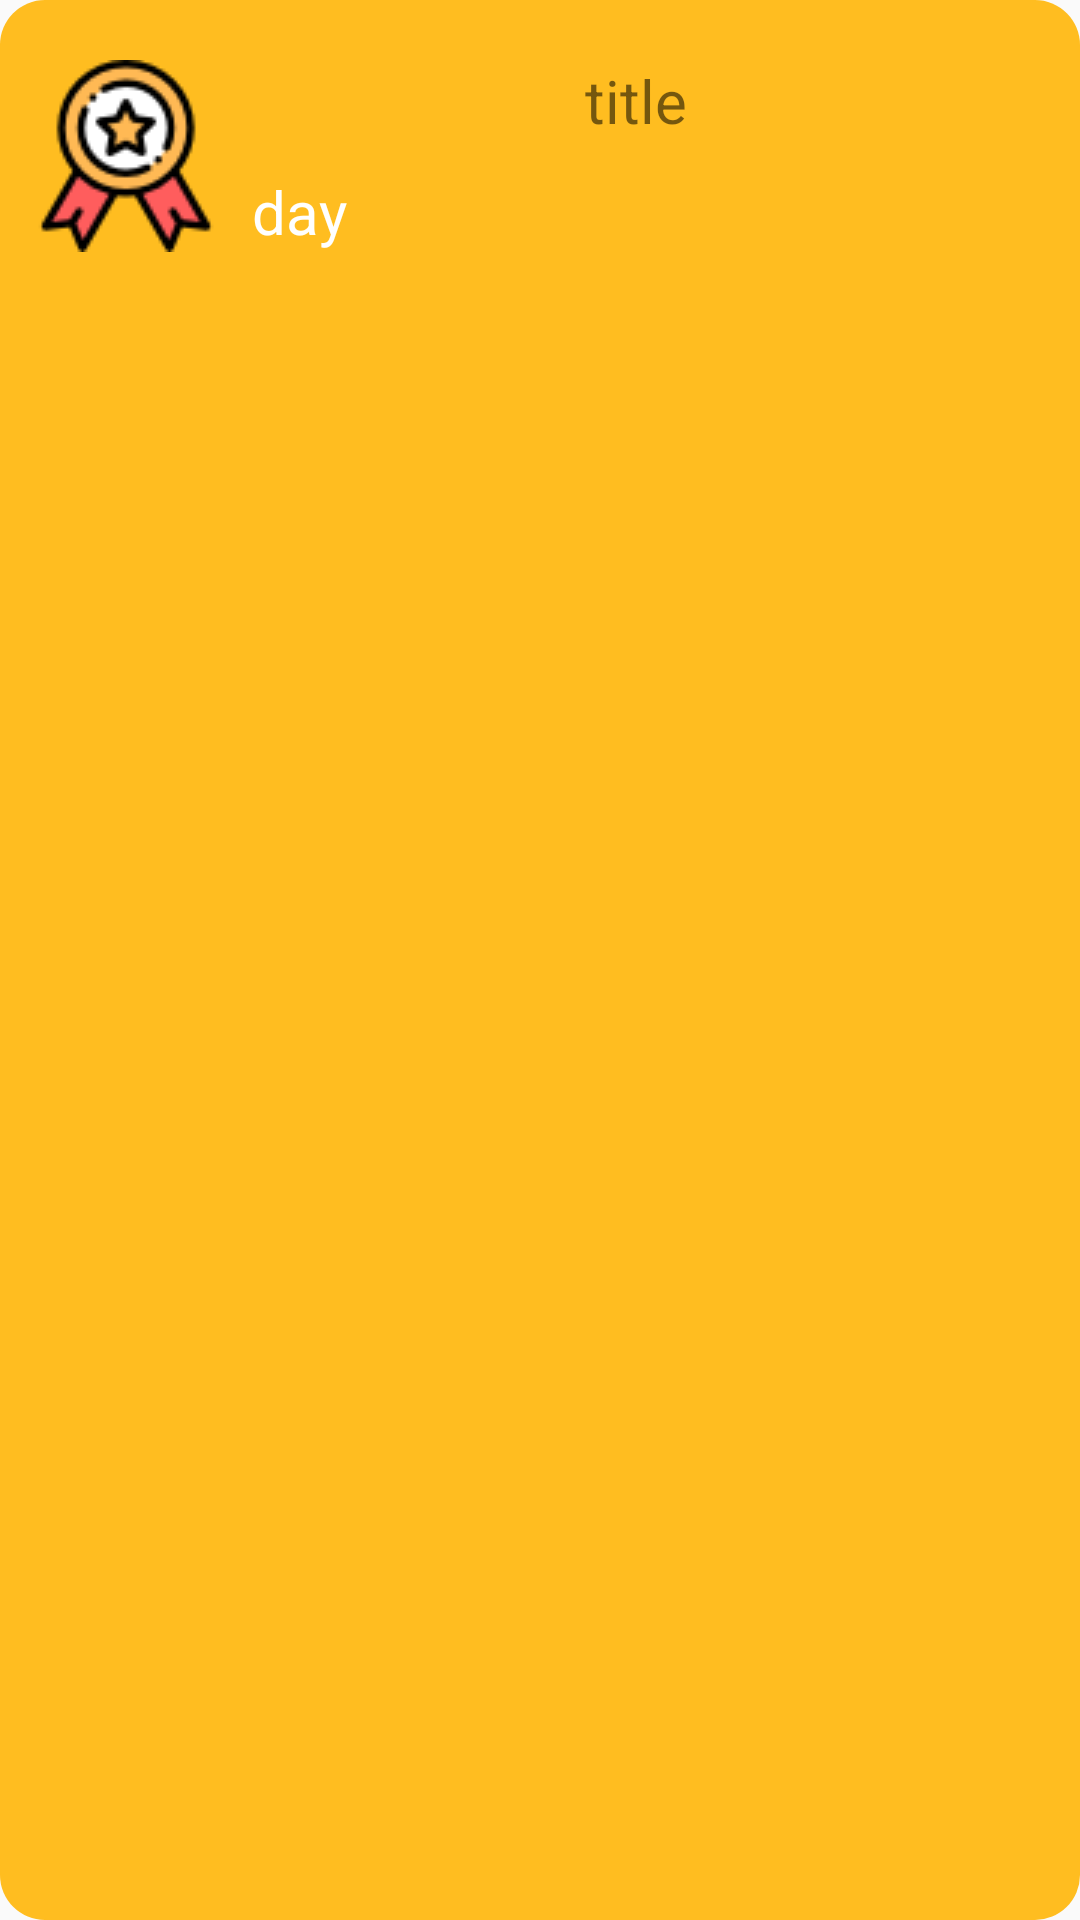

Named icons in this screenshot (1080px x 1920px) and their centers, (x=x, y=y):
prize: (x=126, y=156)
